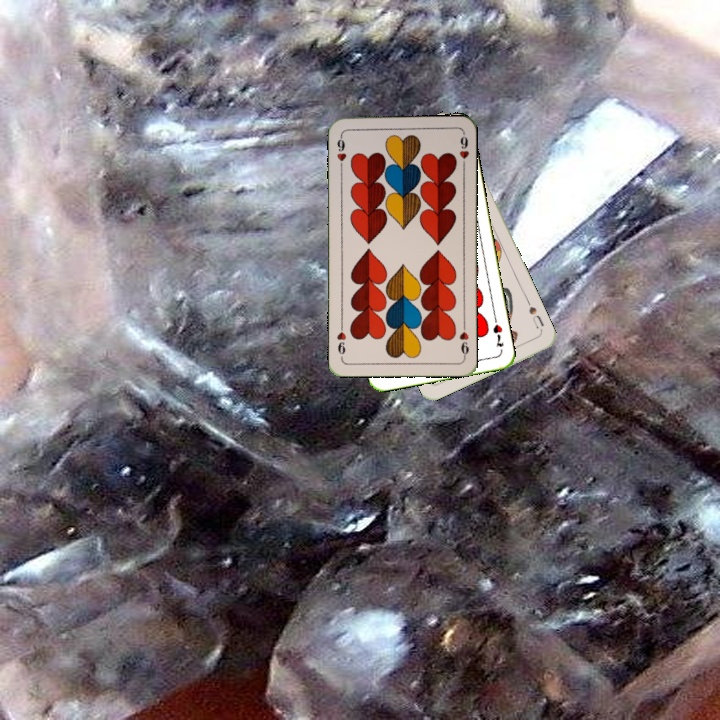H7: (489, 313, 506, 350)
H9: (333, 131, 349, 172), (456, 319, 471, 360)
SU: (523, 296, 546, 335)
